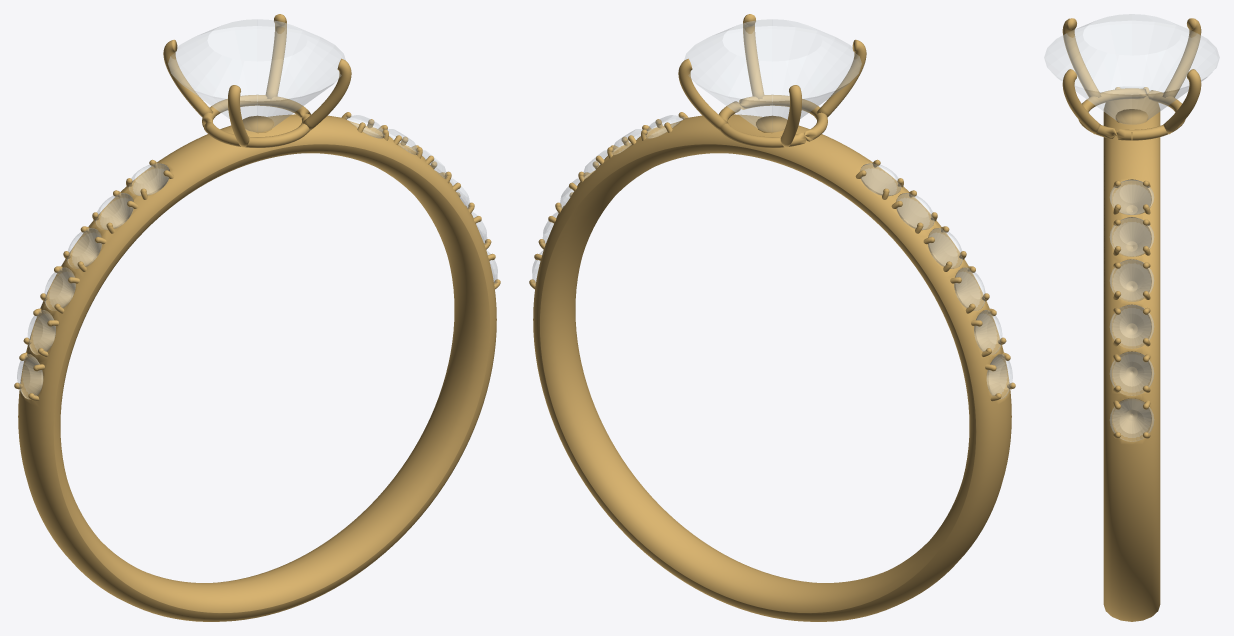
Rendered from accents-pave.glb.
The picture shows the model from 3 angles, left to right: view 1: azimuth 30°, elevation 25°; view 2: azimuth 150°, elevation 25°; view 3: azimuth 270°, elevation 25°; orthographic projection.
Parts seen in each view (by area): view 1: Band, Gem, Lower gallery, Prong.001, Prong, Prong.003, Gem.003, Gem.004, Gem.002, Gem.001, Gem.005, Gem.006 (+1 smaller); view 2: Band, Gem, Lower gallery, Prong.002, Prong.003, Prong, Gem.003, Gem.004, Gem.002, Gem.001, Gem.005, Gem.006 (+1 smaller); view 3: Band, Gem, Lower gallery, Gem.011, Gem.010, Gem.012, Gem.009, Gem.008, Gem.007, Prong.001, Prong.002, Prong (+2 smaller).
Part boxes in pixels (left/top/right/bottom): Band: left=18, top=114, right=496, bottom=621; Gem: left=168, top=19, right=345, bottom=131; Lower gallery: left=202, top=94, right=310, bottom=147; Prong.001: left=163, top=39, right=213, bottom=117; Prong: left=265, top=14, right=286, bottom=99; Prong.003: left=301, top=58, right=351, bottom=131; Gem.003: left=67, top=228, right=101, bottom=268; Gem.004: left=44, top=268, right=75, bottom=310; Gem.002: left=95, top=193, right=133, bottom=229; Gem.001: left=128, top=163, right=169, bottom=195; Gem.005: left=28, top=310, right=55, bottom=354; Gem.006: left=17, top=354, right=42, bottom=398; Band: left=533, top=114, right=1011, bottom=621; Gem: left=684, top=19, right=861, bottom=131; Lower gallery: left=719, top=94, right=827, bottom=147; Prong.002: left=816, top=39, right=866, bottom=117; Prong.003: left=743, top=14, right=764, bottom=99; Prong: left=678, top=58, right=728, bottom=131; Gem.003: left=928, top=228, right=962, bottom=268; Gem.004: left=954, top=268, right=985, bottom=310; Gem.002: left=896, top=193, right=934, bottom=229; Gem.001: left=860, top=163, right=901, bottom=195; Gem.005: left=974, top=310, right=1001, bottom=354; Gem.006: left=987, top=354, right=1012, bottom=398; Band: left=1103, top=96, right=1160, bottom=621; Gem: left=1044, top=14, right=1219, bottom=124; Lower gallery: left=1078, top=88, right=1185, bottom=140; Gem.011: left=1110, top=352, right=1153, bottom=395; Gem.010: left=1110, top=305, right=1153, bottom=348; Gem.012: left=1110, top=399, right=1153, bottom=441; Gem.009: left=1110, top=259, right=1153, bottom=301; Gem.008: left=1110, top=217, right=1153, bottom=256; Gem.007: left=1110, top=180, right=1153, bottom=214; Prong.001: left=1162, top=18, right=1201, bottom=97; Prong.002: left=1062, top=18, right=1101, bottom=97; Prong: left=1163, top=69, right=1201, bottom=134.
Bounding box in the file's own units: 19.79 × 22.94 × 6.5.
